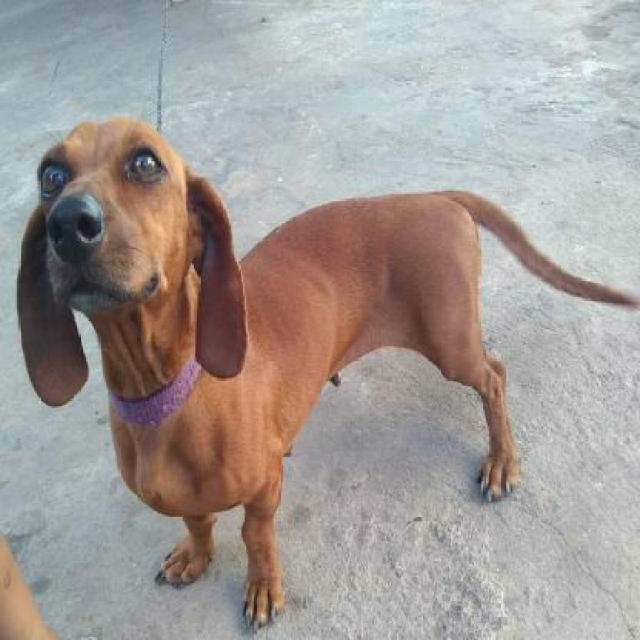Dog: (14, 118, 638, 631)
